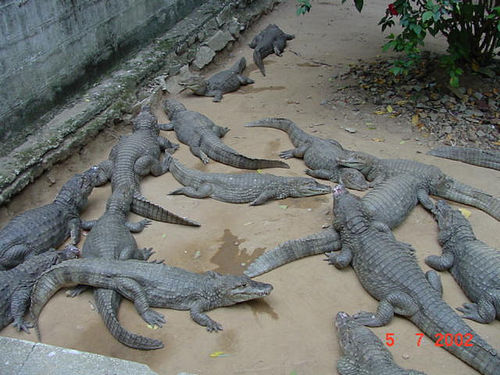Crocodile: (324, 184, 499, 375), (239, 164, 451, 281), (24, 256, 276, 342), (58, 178, 163, 347), (81, 109, 207, 231), (333, 148, 500, 224), (415, 188, 500, 327), (240, 113, 373, 195), (160, 95, 294, 173), (1, 168, 97, 268), (161, 156, 333, 207), (1, 244, 79, 339), (325, 308, 422, 375), (177, 57, 254, 104), (246, 24, 298, 77), (425, 138, 500, 172)
